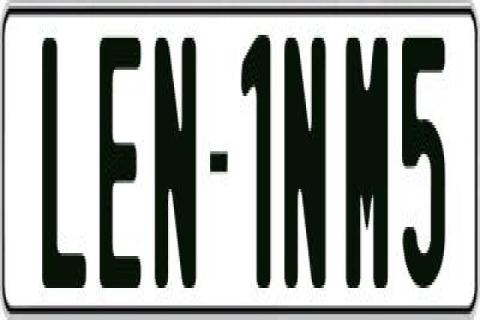0: (402, 38, 450, 291), (238, 29, 274, 288)
E: (98, 32, 142, 294)
L: (38, 29, 86, 288)
M: (342, 38, 388, 297)
N: (154, 29, 198, 297), (284, 38, 324, 297)
